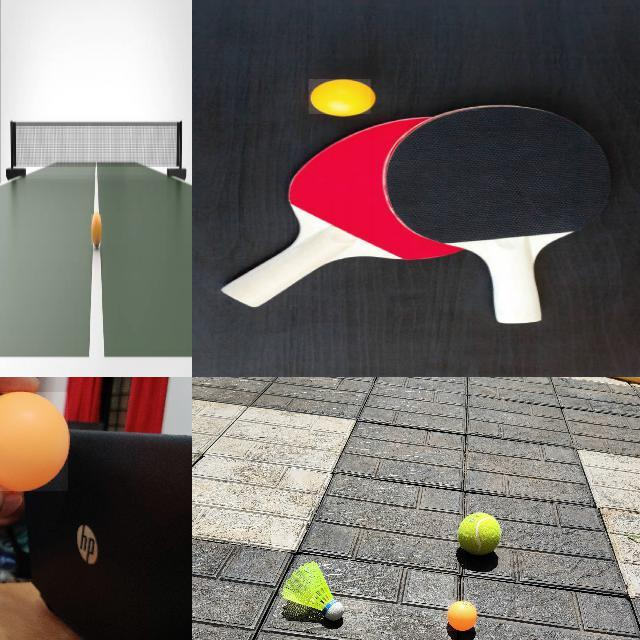ping-pong-ball: (0, 392, 70, 493), (309, 79, 372, 114), (447, 600, 477, 632), (92, 214, 102, 246)
